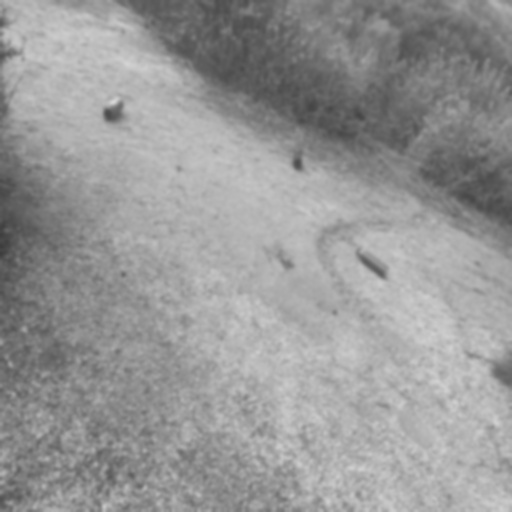bottle: (354, 244, 390, 282), (100, 90, 126, 126), (292, 144, 302, 170)
mallet: (436, 192, 462, 222)
